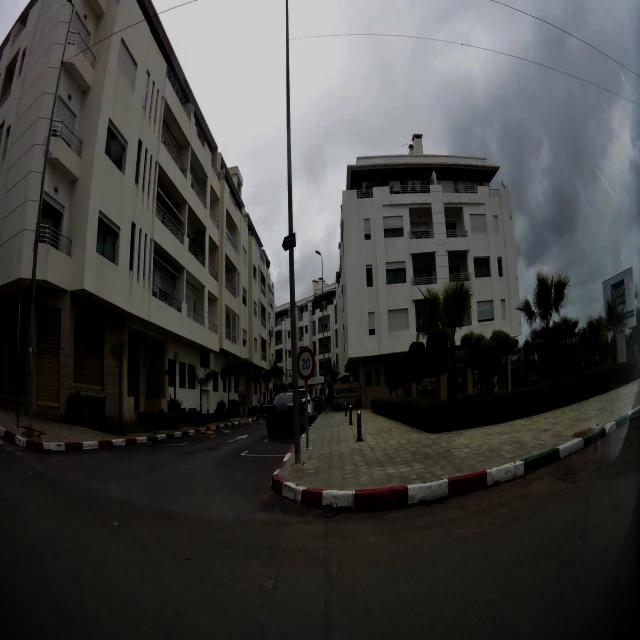car: (266, 390, 308, 438), (299, 390, 315, 426), (310, 392, 326, 414)
